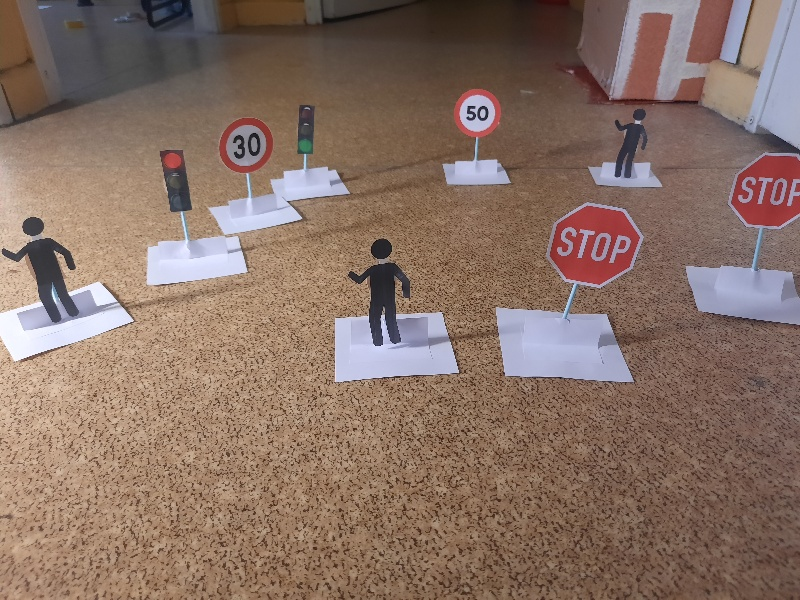Green: (294, 103, 316, 154)
Limit 30: (222, 117, 271, 172)
Limit 50: (452, 89, 499, 135)
Person: (6, 215, 71, 328), (349, 235, 409, 346), (617, 109, 644, 179)
Red: (157, 149, 193, 212)
Stop: (547, 203, 641, 285), (730, 153, 800, 229)
